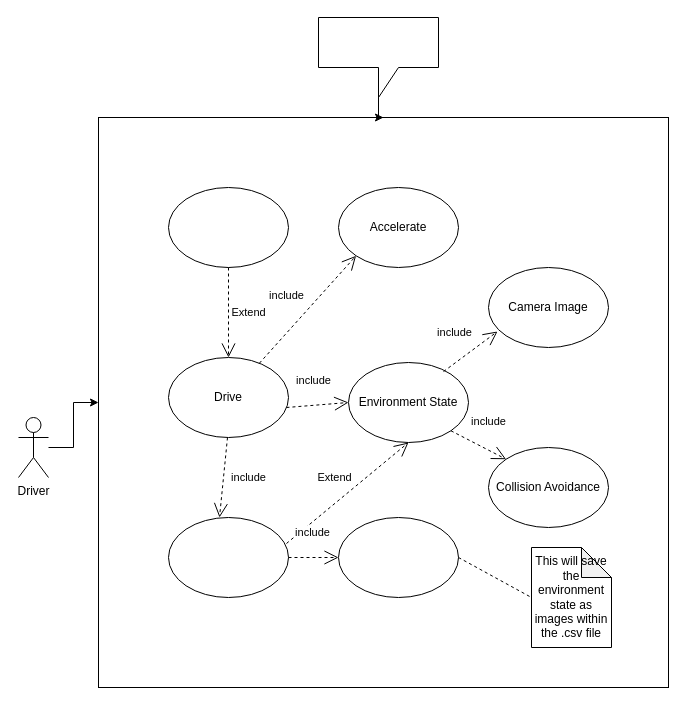
Some shapes in this 686 by 705 pixel diagram are drawn without their labels. Here are the shapes that lost their labels. From the top down, the centre of each, then its label:
At point (378, 57): "Autonomous Vehicle".
At point (228, 227): "Start vehicle".
At point (228, 557): "Collect dataset".
At point (398, 557): "Save State".
